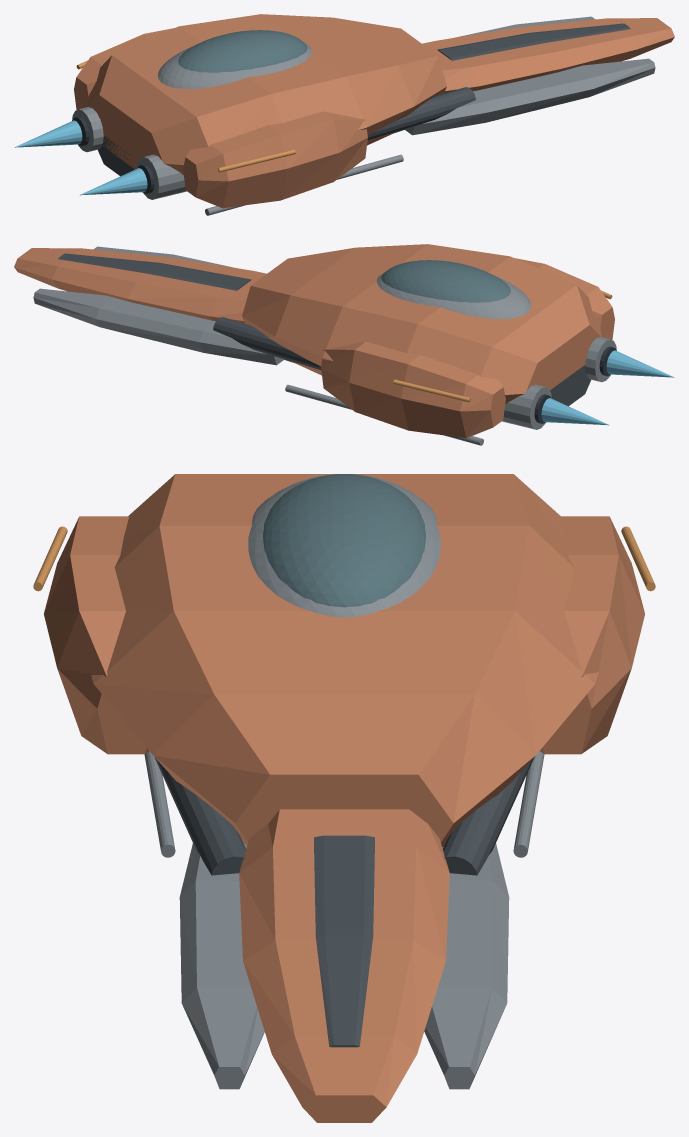
The model's file is scud_orange_flight.glb.
The picture shows the model from 3 angles, top to bottom: view 1: azimuth 30°, elevation 25°; view 2: azimuth 150°, elevation 25°; view 3: azimuth 270°, elevation 25°; orthographic projection. The views are drawn at different scales.
Parts seen in each view (by area): view 1: rear_core_0, rear_side_body_5, forward_body_2, forward_side_fin_7, canopy_glass_4, front_inset_15, canopy_rim_3, rear_engine_housing_9, engine_flame_12, connecting_arm_8, lower_keel_1, underside_ski_13 (+2 smaller); view 2: rear_core_0, rear_side_body_5, forward_body_2, forward_side_fin_7, canopy_glass_4, front_inset_15, canopy_rim_3, rear_engine_housing_9, engine_flame_12, connecting_arm_8, lower_keel_1, underside_ski_13 (+2 smaller); view 3: rear_core_0, forward_body_2, rear_side_body_5, forward_side_fin_7, canopy_glass_4, front_inset_15, connecting_arm_8, canopy_rim_3, underside_ski_13, side_light_6.
Part boxes in pixels (x1=…): rear_core_0: x1=87, y1=14, x2=446, y2=175; rear_side_body_5: x1=74, y1=28, x2=367, y2=208; forward_body_2: x1=422, y1=18, x2=674, y2=93; forward_side_fin_7: x1=404, y1=16, x2=655, y2=135; canopy_glass_4: x1=178, y1=30, x2=307, y2=72; front_inset_15: x1=437, y1=23, x2=630, y2=60; canopy_rim_3: x1=157, y1=42, x2=312, y2=88; rear_engine_housing_9: x1=72, y1=107, x2=186, y2=199; engine_flame_12: x1=14, y1=120, x2=147, y2=195; connecting_arm_8: x1=367, y1=87, x2=475, y2=139; lower_keel_1: x1=98, y1=129, x2=404, y2=192; underside_ski_13: x1=205, y1=154, x2=403, y2=215; rear_core_0: x1=242, y1=244, x2=601, y2=404; rear_side_body_5: x1=321, y1=258, x2=614, y2=438; forward_body_2: x1=14, y1=248, x2=266, y2=323; forward_side_fin_7: x1=33, y1=246, x2=284, y2=365; canopy_glass_4: x1=381, y1=260, x2=510, y2=302; front_inset_15: x1=58, y1=253, x2=251, y2=290; canopy_rim_3: x1=376, y1=272, x2=531, y2=318; rear_engine_housing_9: x1=502, y1=337, x2=616, y2=429; engine_flame_12: x1=541, y1=350, x2=674, y2=425; connecting_arm_8: x1=213, y1=317, x2=321, y2=369; lower_keel_1: x1=284, y1=359, x2=590, y2=422; underside_ski_13: x1=285, y1=384, x2=483, y2=445; rear_core_0: x1=91, y1=474, x2=598, y2=847; forward_body_2: x1=239, y1=809, x2=449, y2=1122; rear_side_body_5: x1=44, y1=516, x2=644, y2=754; forward_side_fin_7: x1=179, y1=843, x2=509, y2=1089; canopy_glass_4: x1=263, y1=474, x2=425, y2=607; front_inset_15: x1=314, y1=835, x2=374, y2=1047; connecting_arm_8: x1=154, y1=757, x2=534, y2=875; canopy_rim_3: x1=248, y1=474, x2=440, y2=617; underside_ski_13: x1=144, y1=751, x2=544, y2=857; side_light_6: x1=33, y1=526, x2=655, y2=591.
Size of the model in its own units: 7.45 by 1.37 by 3.25.
